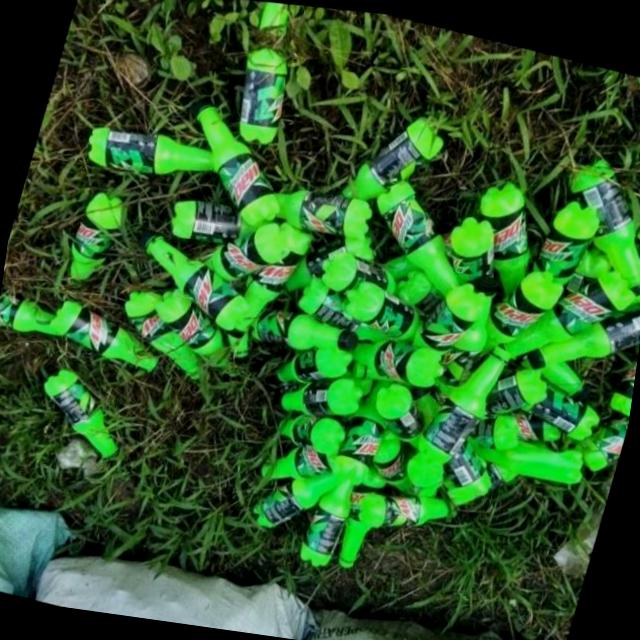chai_nhua: (0, 287, 159, 367), (499, 272, 636, 356), (419, 346, 511, 463), (195, 99, 280, 224), (141, 230, 249, 327), (226, 219, 311, 336), (378, 178, 461, 295), (571, 158, 640, 296), (342, 113, 445, 198), (527, 301, 640, 369), (480, 270, 564, 354), (240, 0, 290, 141), (44, 364, 120, 455), (125, 287, 200, 376), (441, 275, 499, 385), (89, 122, 215, 171), (155, 287, 231, 366), (333, 378, 390, 483), (298, 276, 389, 340), (480, 180, 530, 293), (67, 188, 124, 285), (533, 200, 600, 282), (414, 283, 487, 350), (207, 220, 291, 278), (275, 187, 372, 236), (339, 468, 387, 566), (300, 478, 354, 565), (248, 307, 359, 349), (346, 278, 421, 340), (253, 474, 344, 525), (477, 442, 583, 483), (354, 338, 445, 385), (531, 383, 600, 441), (481, 368, 548, 420), (173, 196, 252, 240), (376, 381, 426, 446), (359, 491, 451, 526), (282, 376, 363, 415), (448, 214, 495, 279), (273, 344, 353, 381), (256, 442, 333, 478), (372, 428, 413, 492), (280, 413, 345, 452), (610, 349, 639, 417)
